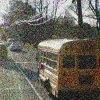buses: (35, 37, 100, 100)
